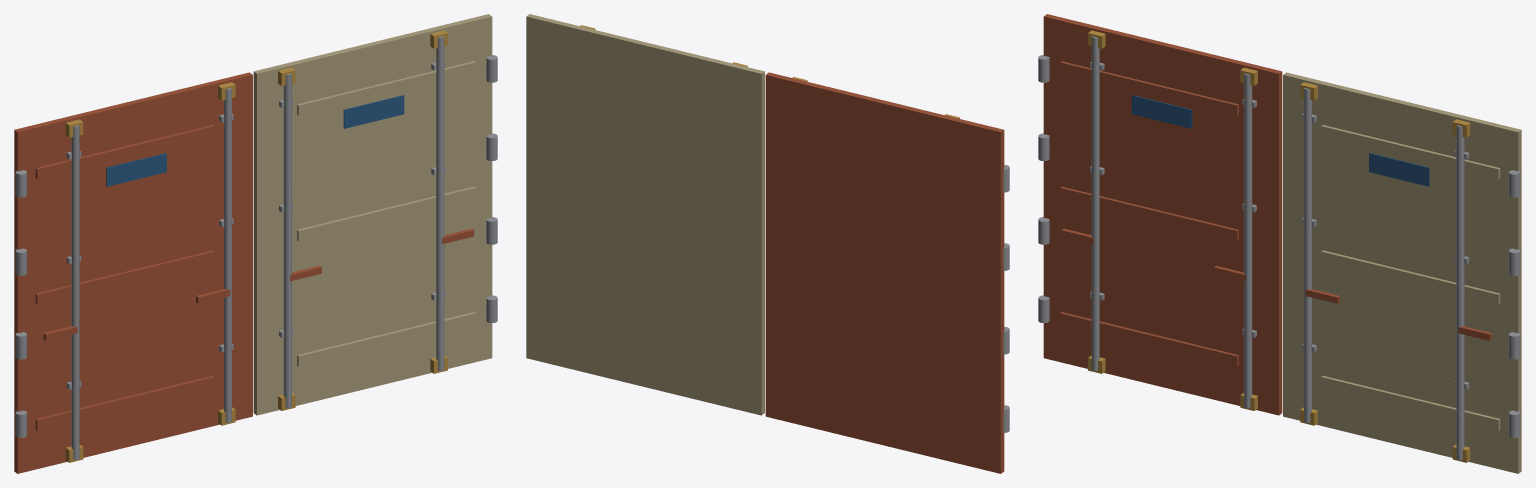
The model's file is hold100_door.obj.
3 views of the same model, side by side, from view 1: azimuth 30°, elevation 25°; view 2: azimuth 150°, elevation 25°; view 3: azimuth 330°, elevation 25° (orthographic).
Parts seen in each view (by area): view 1: hold100_door; view 2: hold100_door; view 3: hold100_door.
Part boxes in pixels (box(x1,y1,x2,y2)): hold100_door: box(14, 14, 497, 473); hold100_door: box(526, 14, 1009, 473); hold100_door: box(1038, 14, 1521, 473).
Size of the model in its own units: 4.81 by 3.27 by 0.15.
